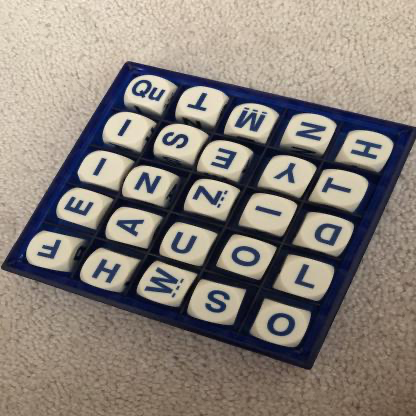a: (109, 210, 155, 246)
d: (302, 217, 353, 252)
e: (202, 143, 251, 175), (61, 190, 104, 225)
f: (29, 235, 74, 268)
h: (83, 253, 132, 289), (344, 132, 394, 166)
i: (244, 196, 296, 231), (106, 113, 149, 144)
l: (282, 259, 332, 297)
m: (228, 104, 274, 138)
n: (126, 168, 172, 201), (287, 115, 334, 147)
o: (256, 305, 308, 345), (223, 239, 273, 276)
qu: (129, 77, 171, 106)
s: (190, 284, 242, 323), (157, 125, 203, 157)
t: (317, 171, 369, 207), (181, 88, 224, 118)
u: (162, 227, 211, 262)
w: (141, 266, 191, 304)
y: (264, 158, 313, 192), (81, 153, 125, 185)
z: (188, 181, 236, 215)
